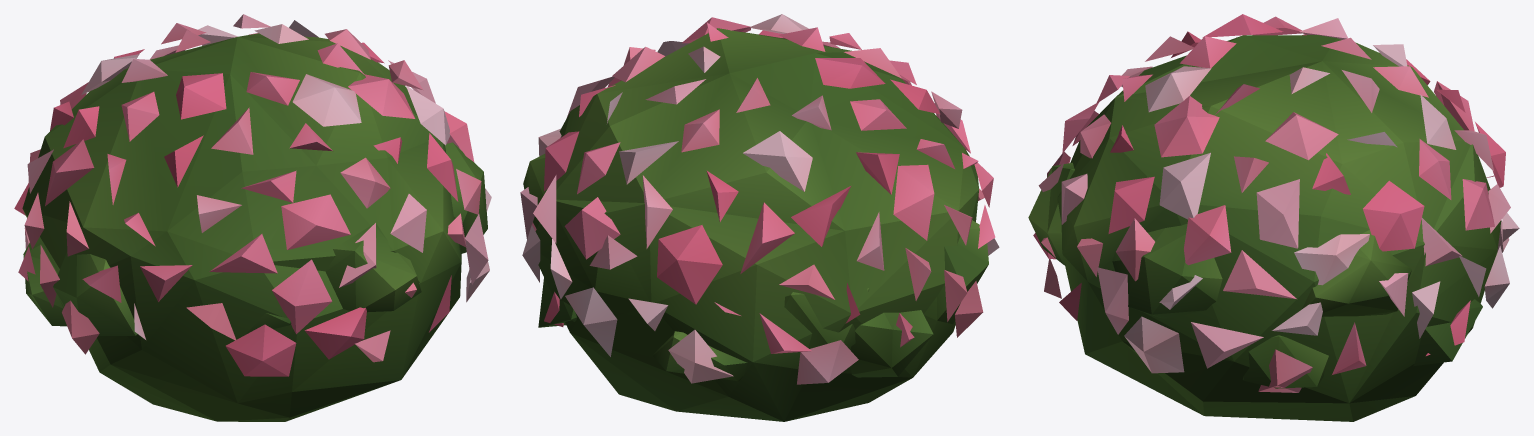
File: zen_azalea-lod1.glb
3 views of the same model, side by side, from view 1: azimuth 30°, elevation 25°; view 2: azimuth 150°, elevation 25°; view 3: azimuth 270°, elevation 25° (orthographic).
Parts seen in each view (by area): view 1: zen_azalea; view 2: zen_azalea; view 3: zen_azalea.
Part boxes in pixels (x1=…): zen_azalea: x1=14, y1=14, x2=491, y2=421; zen_azalea: x1=520, y1=14, x2=999, y2=421; zen_azalea: x1=1028, y1=14, x2=1519, y2=421.
Bounding box in the file's own units: 1.73 × 1.32 × 1.75.
